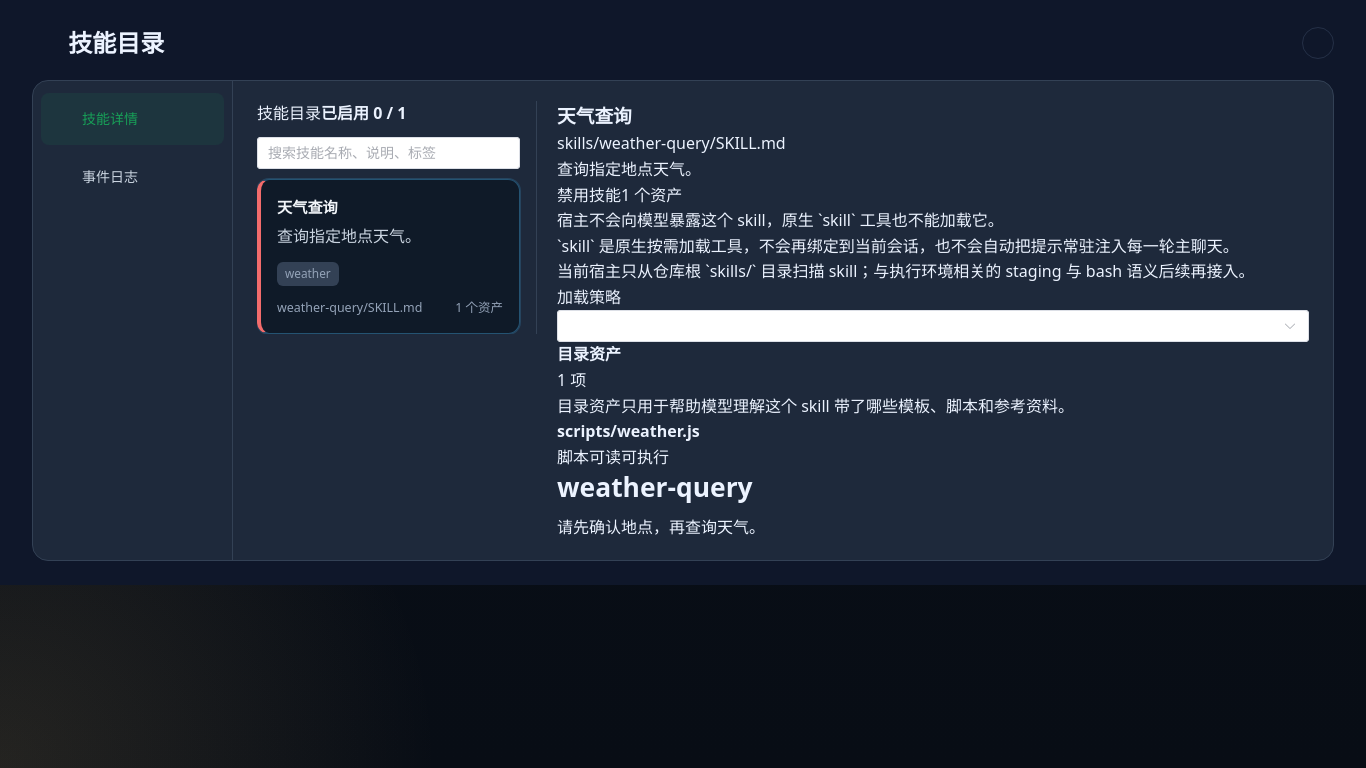
it: SkillsView › switches between skill details and event logs
Expected: the text "技能日志设置" is not shown
Expected: the text "技能治理已更新" is not shown
Click the button titled "事件日志" at (132, 177), box [41,151,224,203]
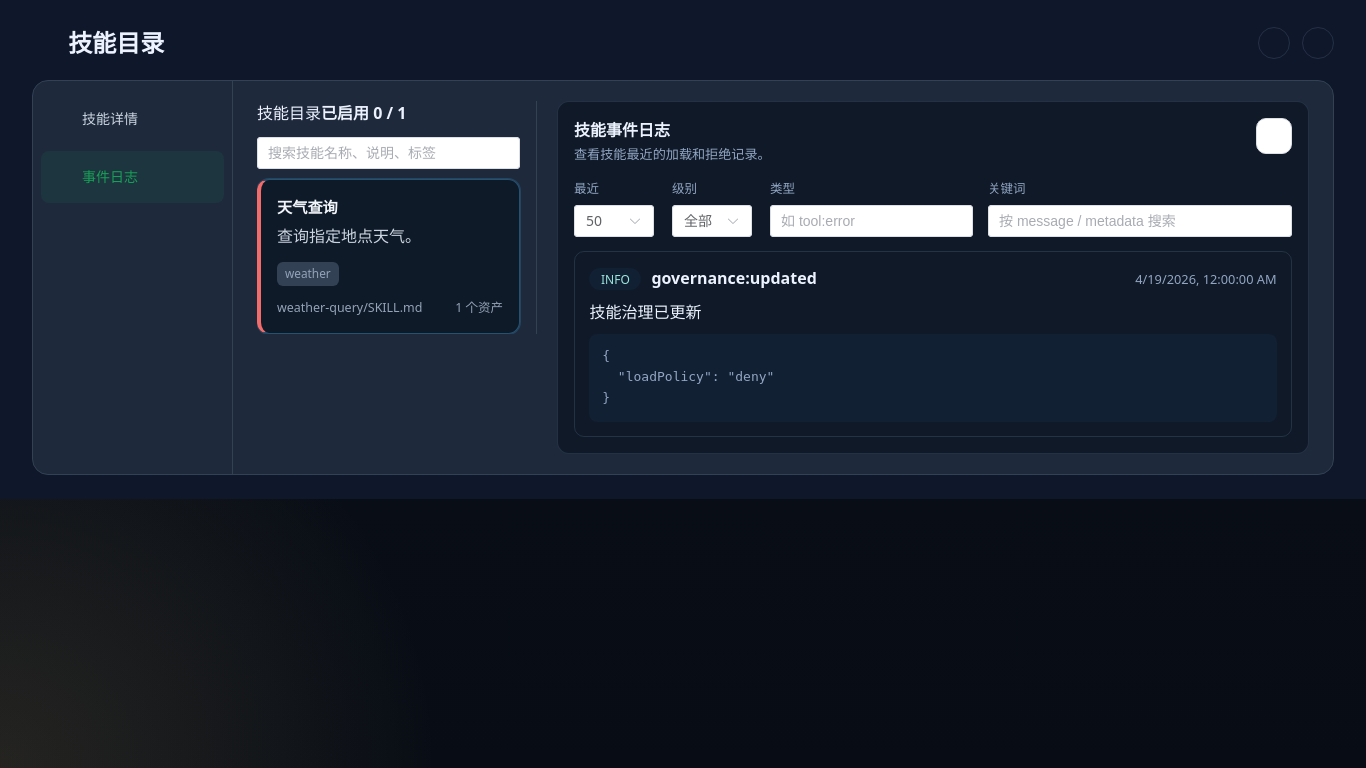
Expected: the text "技能日志设置" is not shown
Expected: the text "技能事件日志" is shown, [574,119,670,141]
Expected: the text "技能治理已更新" is shown, [589,301,701,323]
Click the button titled "日志设置" at (1274, 43), box [1258,27,1290,59]
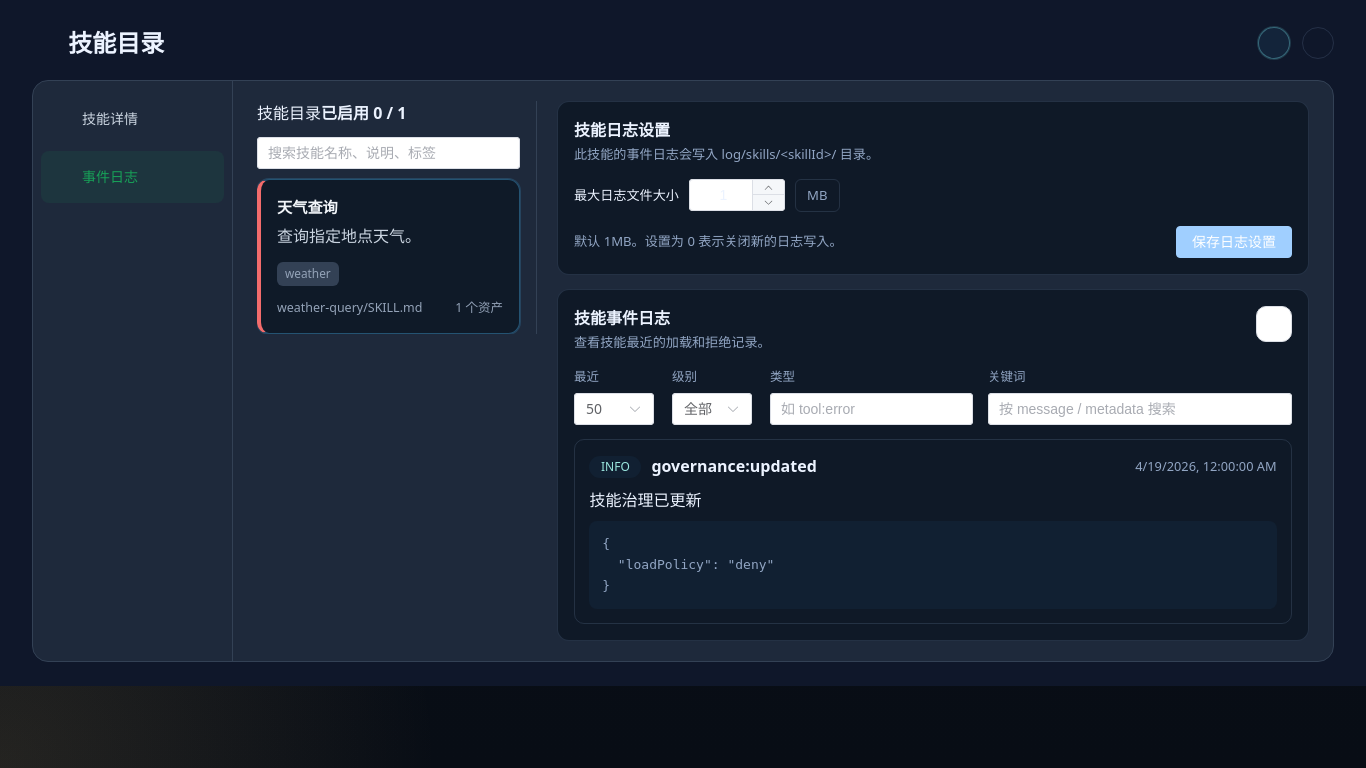
Expected: the text "技能日志设置" is shown, [574,119,670,141]
